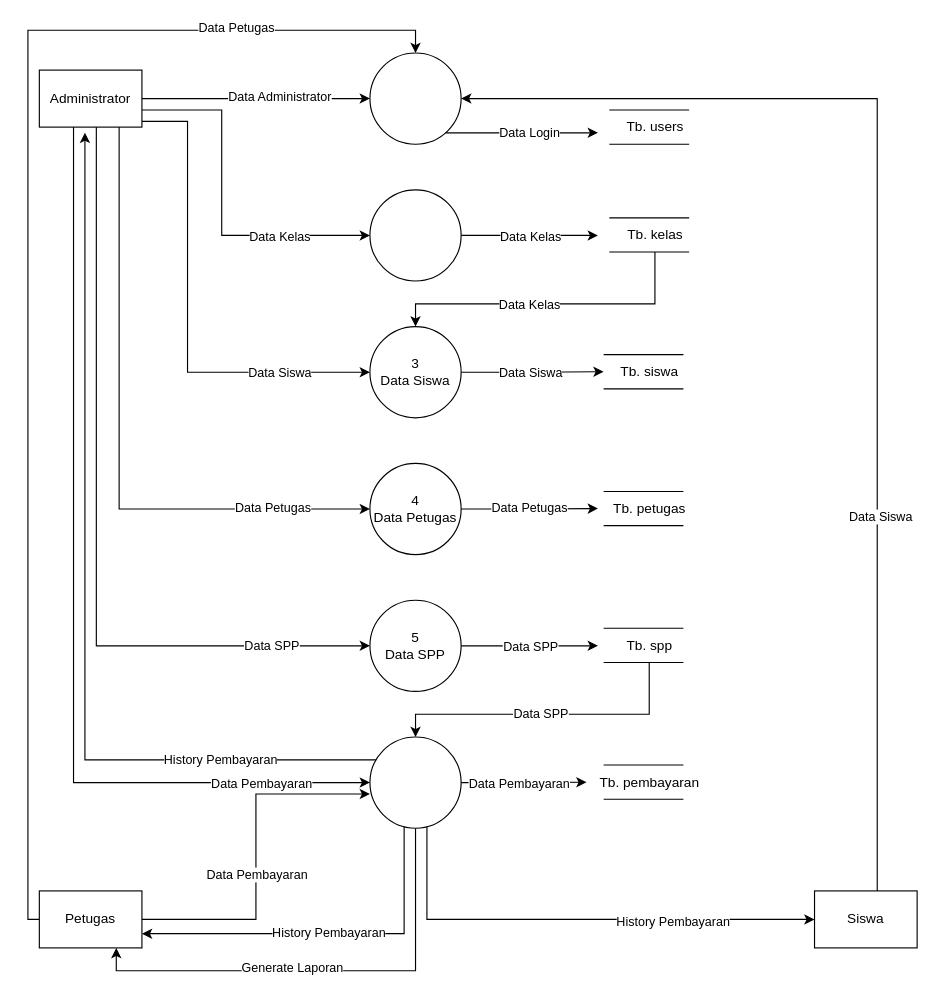
The diagram is 937 pixels wide and 1000 high, and some of its shapes have lost their labels. Each missing label, with the centre of its shape:
1 Login: (415,98)
2 Data Kelas: (415,235)
6 Data Pembayaran: (415,782)
